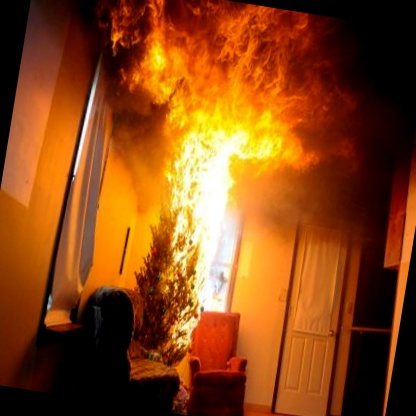fire: (45, 0, 343, 382)
